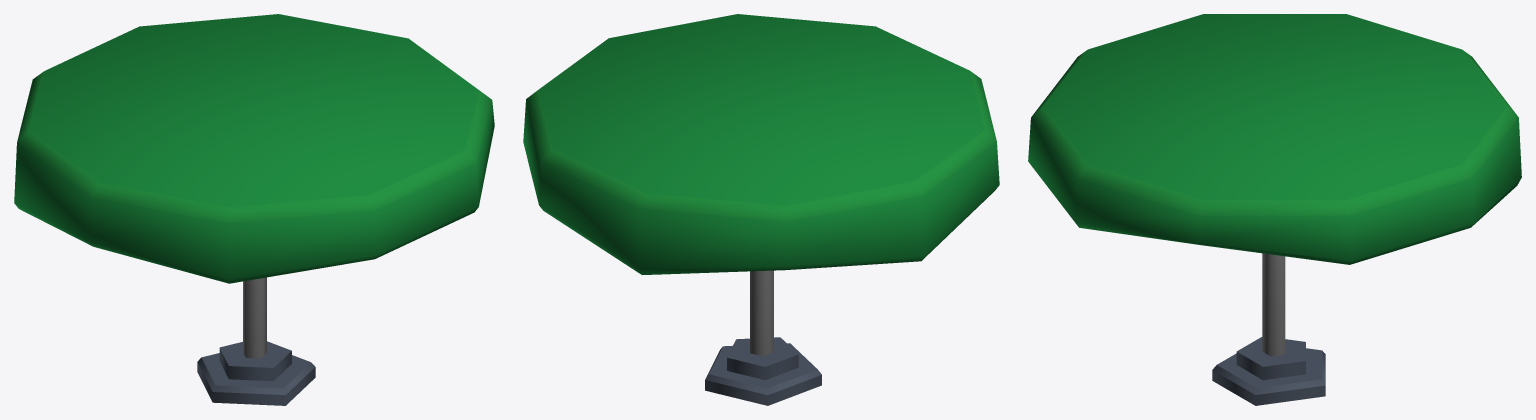
File: Table_1_C.fbx
3 renders of one model, left to right at view 1: azimuth 30°, elevation 25°; view 2: azimuth 150°, elevation 25°; view 3: azimuth 270°, elevation 25°, orthographic.
Visible parts, largest first — view 1: Table_1_C; view 2: Table_1_C; view 3: Table_1_C.
Part boxes in pixels (<box>): Table_1_C: <box>14,14,494,405</box>; Table_1_C: <box>523,14,999,405</box>; Table_1_C: <box>1028,14,1521,405</box>.
Size of the model in its own units: 134 by 86.3 by 141.
